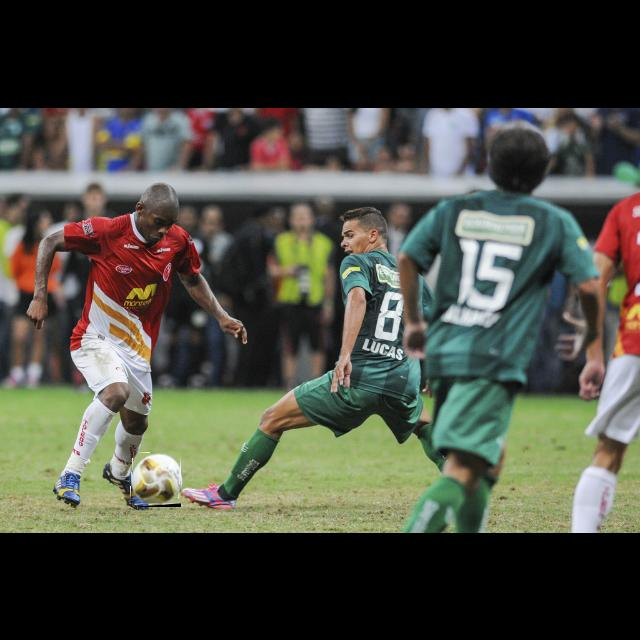Football: (131, 453, 181, 507)
